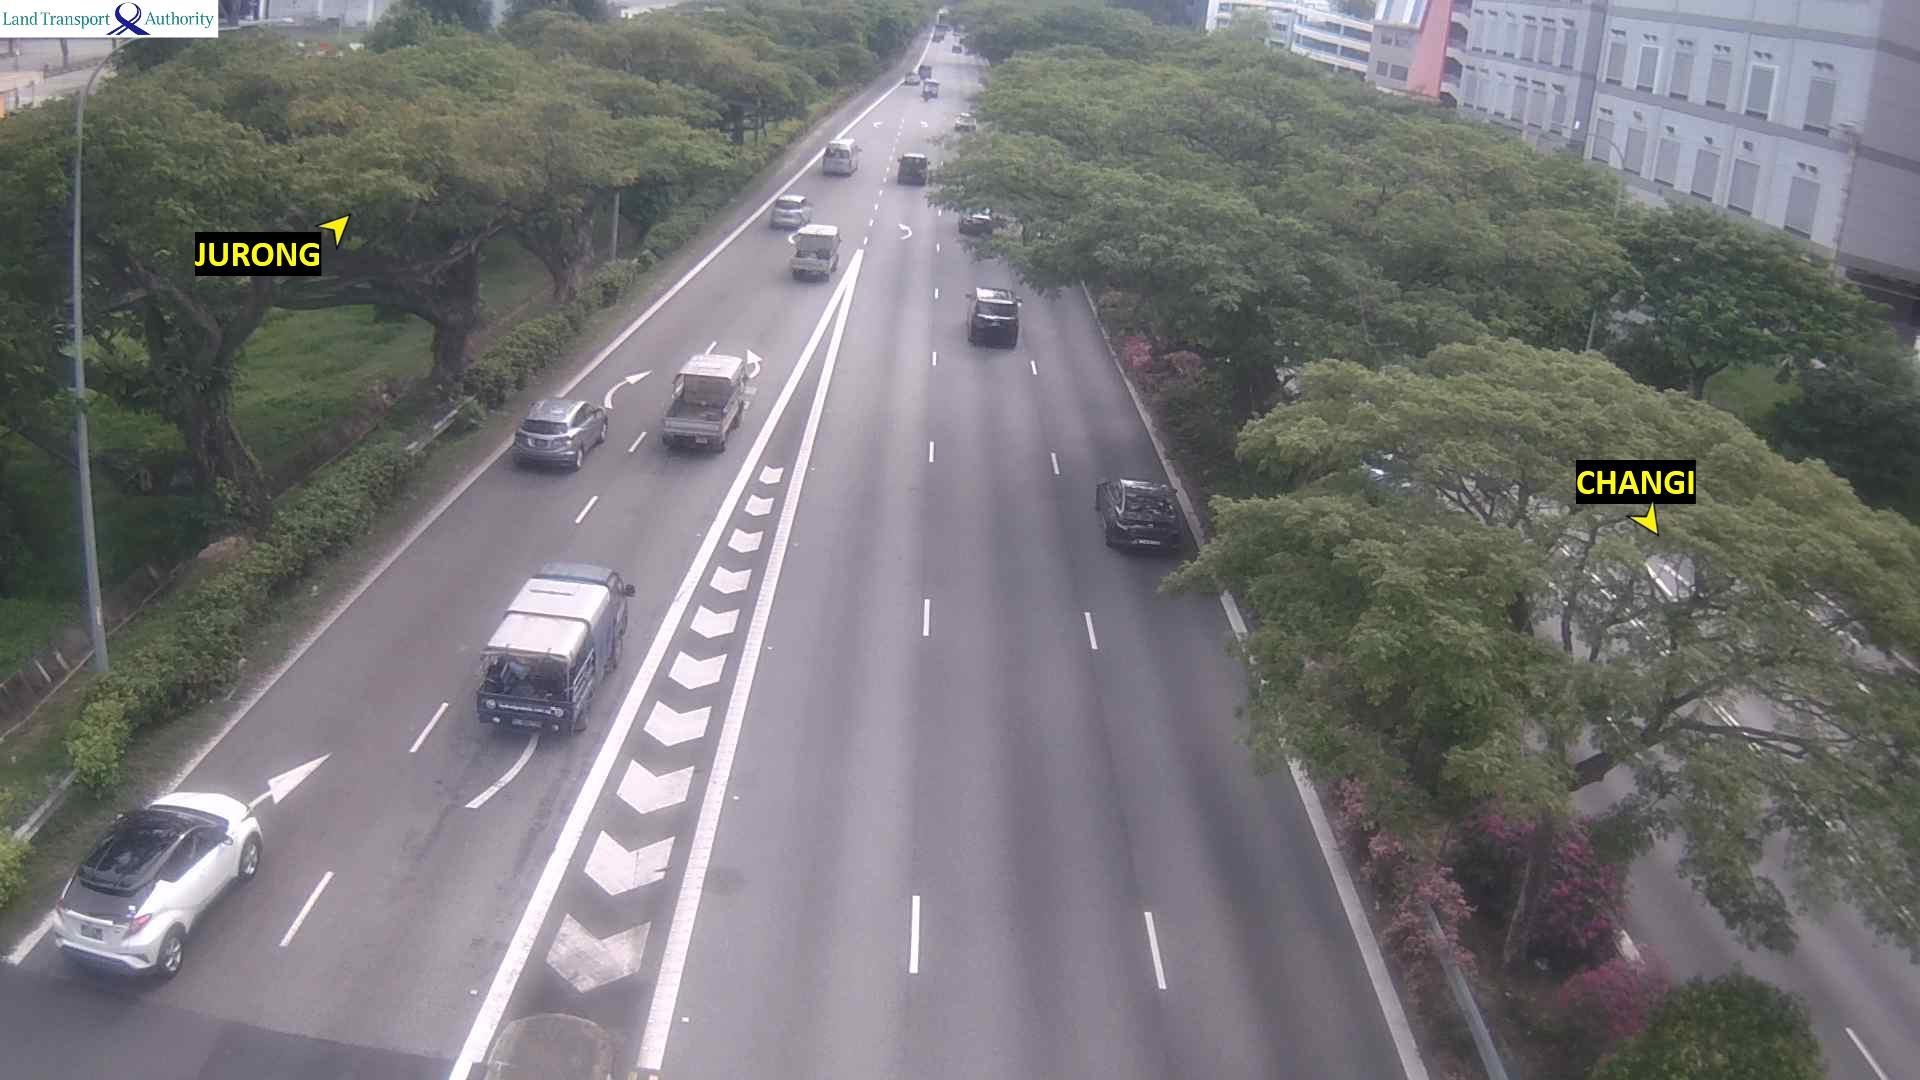cars: (51, 789, 264, 983), (659, 341, 762, 453), (512, 396, 608, 470), (1094, 477, 1182, 553), (964, 285, 1021, 347), (1357, 447, 1419, 502), (786, 223, 841, 279), (769, 193, 812, 229), (821, 138, 858, 175), (896, 151, 928, 184), (958, 205, 994, 234), (954, 111, 976, 132), (921, 79, 939, 98), (916, 63, 931, 80), (903, 71, 920, 85), (931, 26, 946, 41), (951, 40, 965, 54)
trucks: (474, 560, 635, 735)
